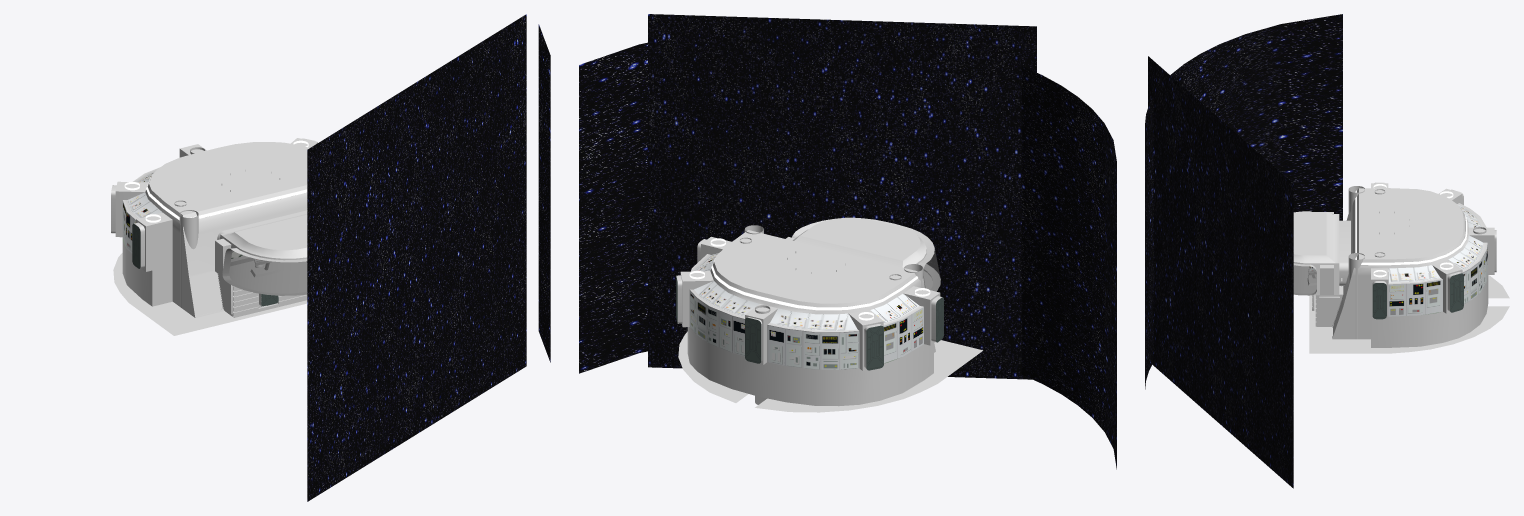
3 views of the same model, side by side, from view 1: azimuth 30°, elevation 25°; view 2: azimuth 150°, elevation 25°; view 3: azimuth 270°, elevation 25° (orthographic). The views are drawn at different scales.
Visible parts, largest first — view 1: Plane_23, MainStructure_16, Roof_13, Plane.001_0, LowerFloor_21, CrewRoof_2, Padding_15, Pillar_11; view 2: Plane_23, Plane.001_0, MainStructure_16, Roof_13, LowerFloor_21, CrewRoof_2; view 3: Plane_23, Plane.001_0, MainStructure_16, Roof_13, LowerFloor_21, CrewRoof_2, Pillar_11.
Boxes of the visible parts, x1=… form: Plane_23: x1=307, y1=14, x2=526, y2=501; MainStructure_16: x1=111, y1=138, x2=317, y2=317; Roof_13: x1=149, y1=142, x2=309, y2=215; Plane.001_0: x1=538, y1=24, x2=550, y2=362; LowerFloor_21: x1=113, y1=253, x2=307, y2=335; CrewRoof_2: x1=235, y1=214, x2=307, y2=250; Padding_15: x1=232, y1=286, x2=307, y2=317; Pillar_11: x1=179, y1=210, x2=198, y2=307; Plane_23: x1=648, y1=14, x2=1036, y2=379; Plane.001_0: x1=579, y1=42, x2=1116, y2=469; MainStructure_16: x1=676, y1=218, x2=943, y2=406; Roof_13: x1=714, y1=230, x2=916, y2=303; LowerFloor_21: x1=678, y1=331, x2=982, y2=412; CrewRoof_2: x1=800, y1=217, x2=920, y2=260; Plane_23: x1=1148, y1=56, x2=1293, y2=488; Plane.001_0: x1=1145, y1=14, x2=1342, y2=389; MainStructure_16: x1=1293, y1=182, x2=1496, y2=347; Roof_13: x1=1359, y1=188, x2=1463, y2=259; LowerFloor_21: x1=1309, y1=275, x2=1509, y2=353; CrewRoof_2: x1=1293, y1=212, x2=1326, y2=255; Pillar_11: x1=1348, y1=186, x2=1364, y2=339.
Bounding box in the file's own units: 31 × 19.91 × 21.59.
Materials: 17 (8 with a texture image).
